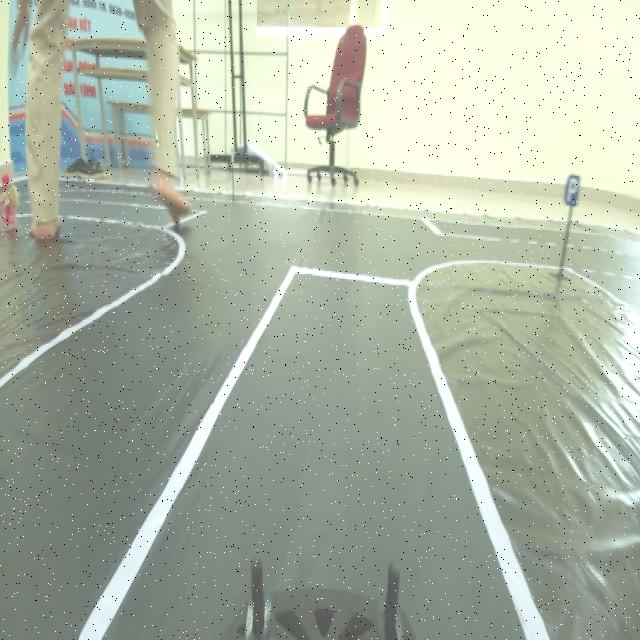parking: (564, 162, 584, 213)
